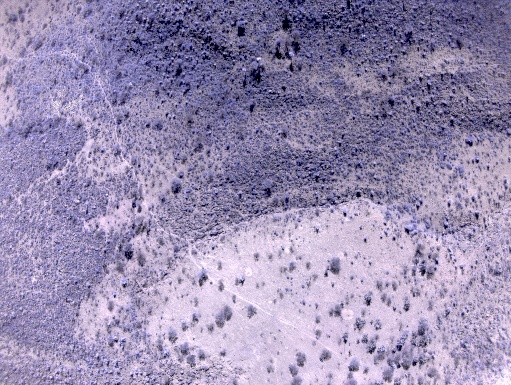agave: (216, 18, 225, 26), (316, 16, 323, 25), (173, 6, 181, 13), (185, 56, 193, 63), (176, 17, 184, 24), (228, 77, 235, 84), (180, 43, 186, 50), (154, 88, 160, 95), (240, 12, 248, 17), (326, 33, 333, 38), (256, 18, 263, 23), (242, 54, 247, 60), (238, 43, 243, 49), (188, 43, 192, 50), (170, 10, 174, 16), (206, 13, 210, 19), (239, 16, 243, 21)
